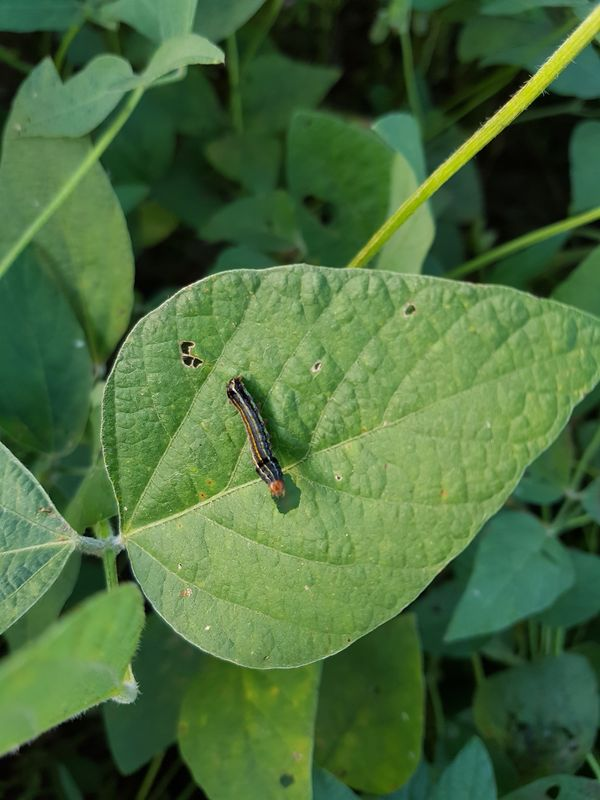Spodoptera_albula: (200, 369, 316, 514)
